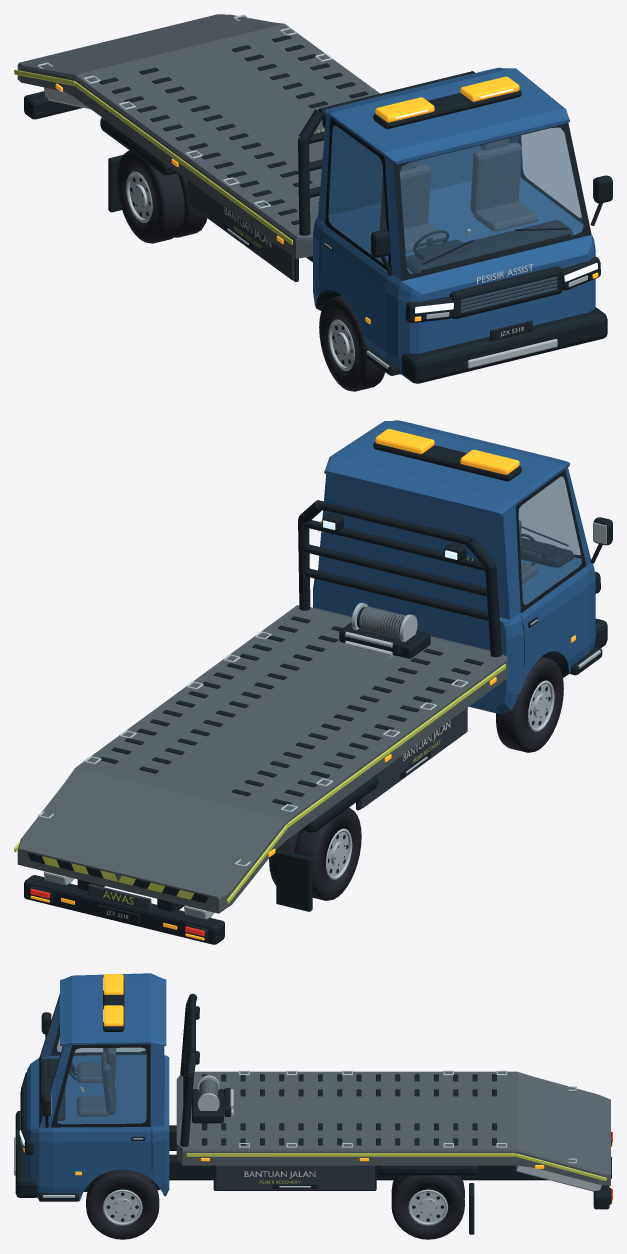
3 renders of one model, top to bottom at view 1: azimuth 30°, elevation 25°; view 2: azimuth 150°, elevation 25°; view 3: azimuth 270°, elevation 25°, orthographic. The views are drawn at different scales.
Visible parts, largest first — view 1: Pesisir Rollback Recovery Truck; view 2: Pesisir Rollback Recovery Truck; view 3: Pesisir Rollback Recovery Truck.
Part boxes in pixels (box(x1,y1,x2,y2)): Pesisir Rollback Recovery Truck: box(14, 14, 612, 391); Pesisir Rollback Recovery Truck: box(14, 420, 612, 944); Pesisir Rollback Recovery Truck: box(14, 973, 612, 1239).
Size of the model in its own units: 2.55 by 2.78 by 7.31.
